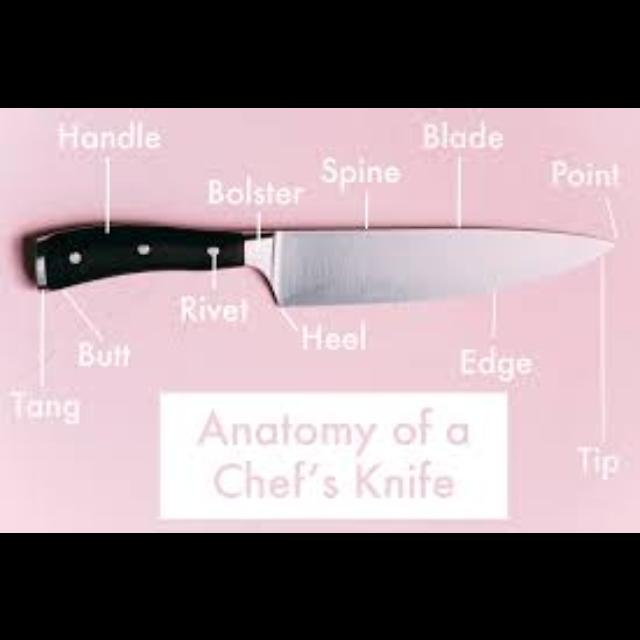Knife: (28, 219, 614, 305)
